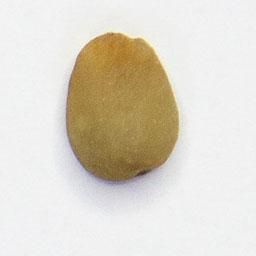defect: (62, 29, 182, 185)
